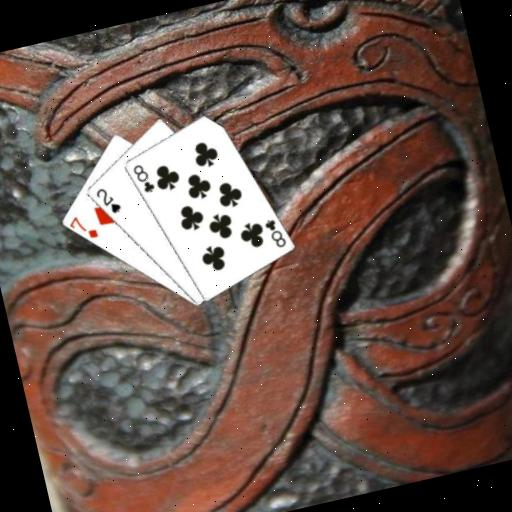2S: (91, 182, 123, 219)
7D: (65, 209, 100, 245)
8C: (128, 159, 157, 197), (260, 214, 289, 252)
